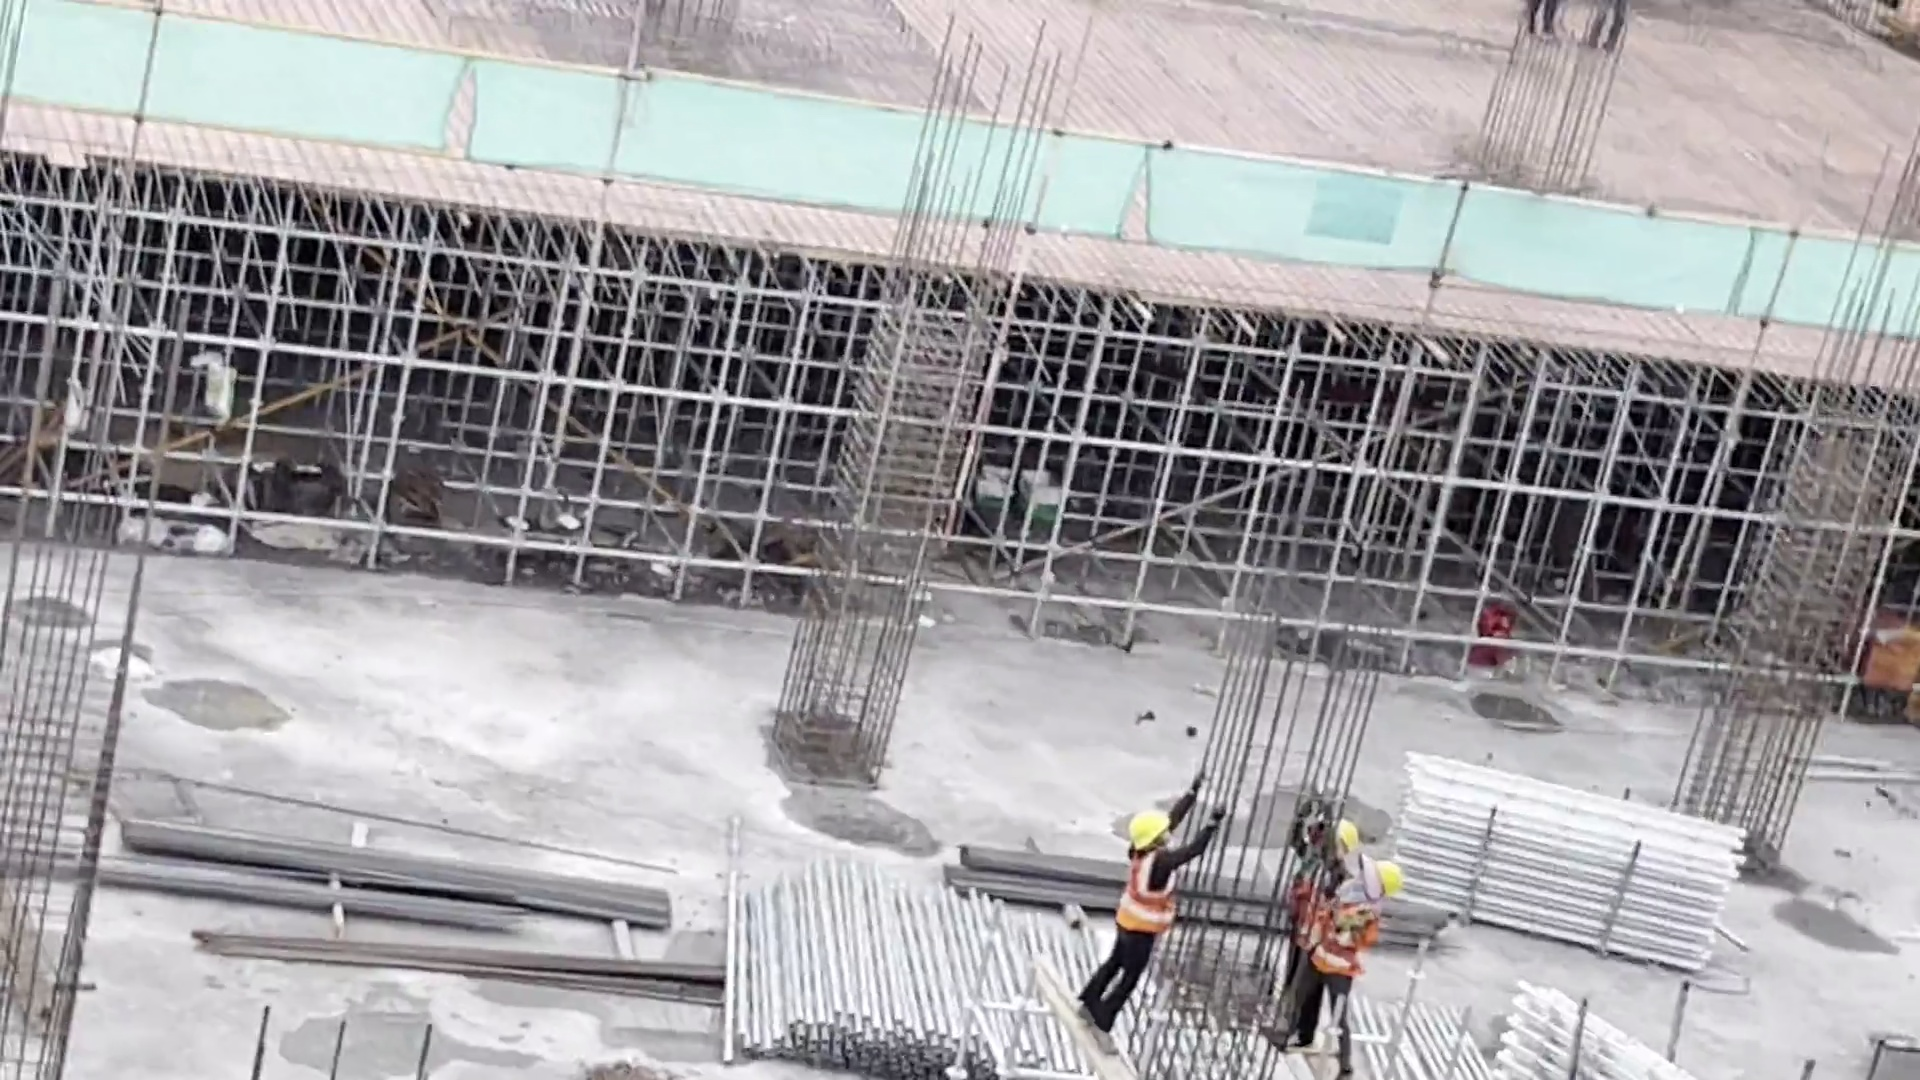helmet: (1118, 806, 1169, 848), (1373, 860, 1402, 896), (1333, 818, 1357, 850)
person: (1104, 806, 1182, 1041), (1312, 858, 1402, 1050), (1281, 819, 1356, 941)
rebar: (115, 816, 678, 949), (941, 860, 1453, 939), (93, 854, 526, 946)
scaffold: (766, 876, 1311, 1072), (1391, 731, 1746, 971), (1480, 969, 1714, 1080)
vest: (1314, 890, 1369, 975), (1119, 848, 1173, 932)
